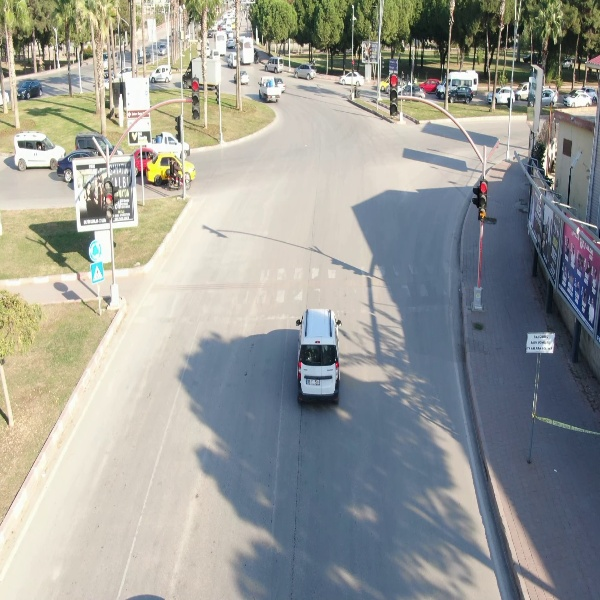car: (295, 305, 344, 406), (13, 131, 67, 172), (15, 77, 42, 102), (487, 86, 517, 107), (292, 60, 319, 81), (563, 90, 594, 108), (447, 85, 475, 103), (263, 56, 287, 74), (149, 65, 173, 83), (338, 71, 365, 86)
